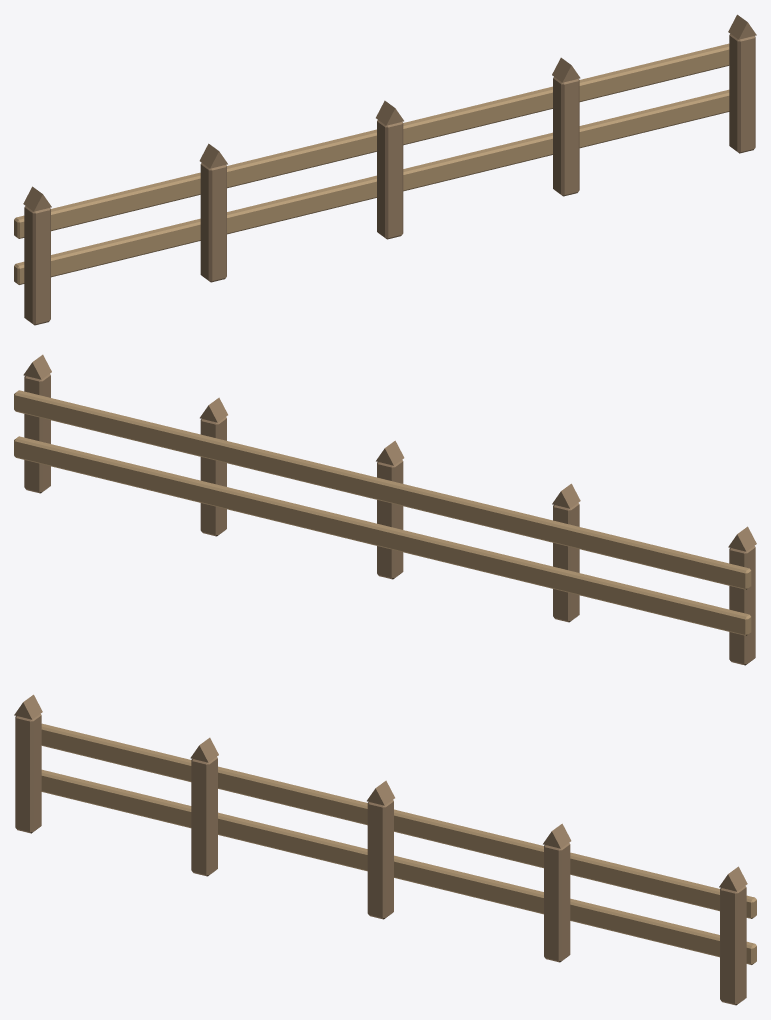
The model's file is mobiliario__cerca_madeira.glb.
3 views of the same model, one above another, from view 1: azimuth 30°, elevation 25°; view 2: azimuth 150°, elevation 25°; view 3: azimuth 330°, elevation 25° (orthographic).
Parts seen in each view (by area): view 1: mobiliario__cerca_madeira; view 2: mobiliario__cerca_madeira; view 3: mobiliario__cerca_madeira.
Boxes of the visible parts, box(x1,y1,x2,y2) form: mobiliario__cerca_madeira: box(14, 14, 756, 325); mobiliario__cerca_madeira: box(14, 354, 756, 665); mobiliario__cerca_madeira: box(14, 694, 756, 1005).
Size of the model in its own units: 2 by 0.34 by 0.0725.
